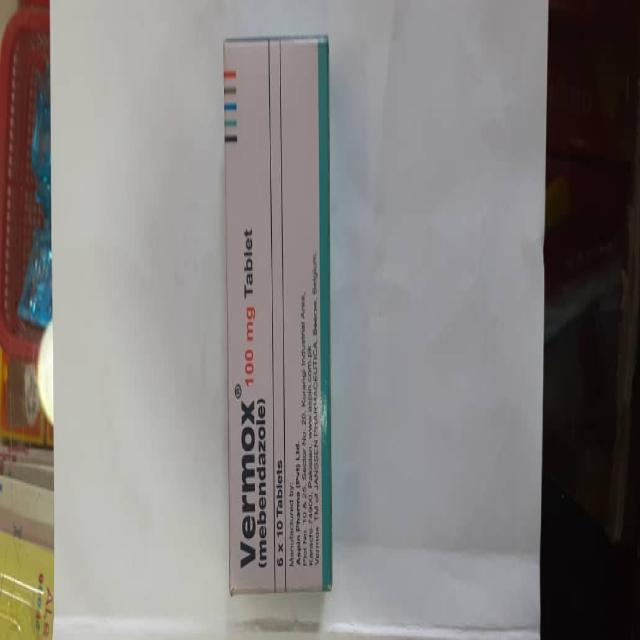drug-name: (239, 400, 256, 570)
